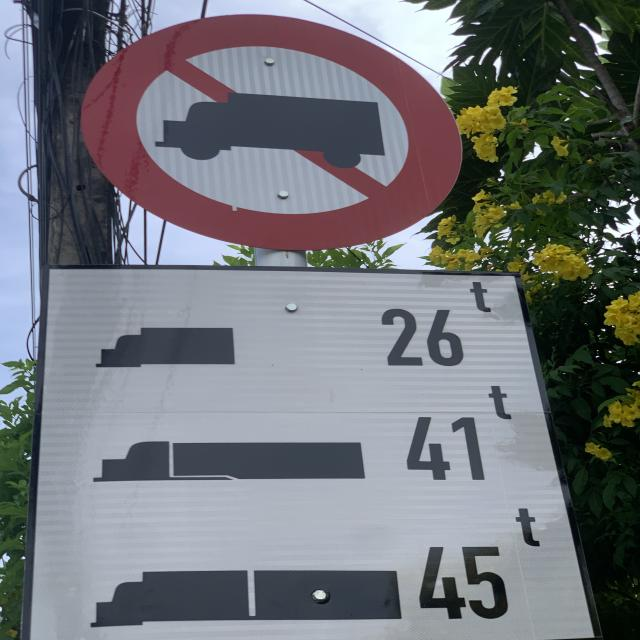Cam_Xe_Tai: (74, 12, 467, 251)
